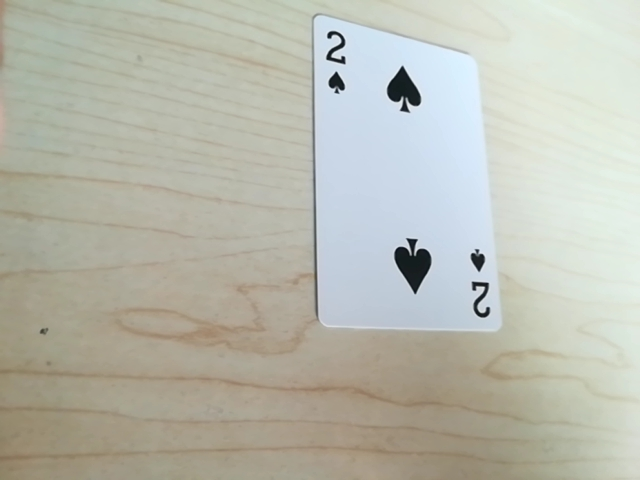ht 2: (313, 17, 359, 107), (459, 242, 494, 328)
